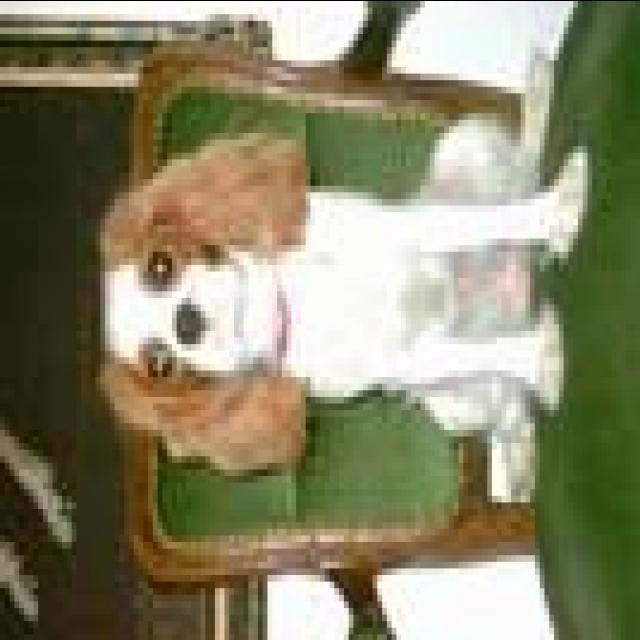blenheim_spaniel: (86, 39, 602, 502)
